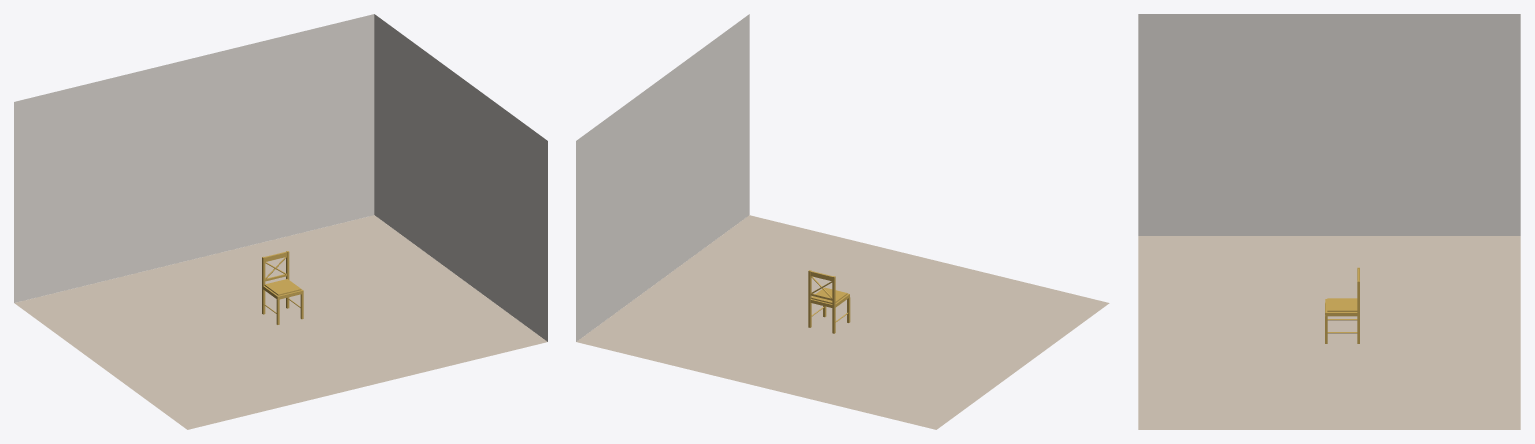
The model's file is silla-crossback.glb.
The picture shows the model from 3 angles, left to right: view 1: azimuth 30°, elevation 25°; view 2: azimuth 150°, elevation 25°; view 3: azimuth 270°, elevation 25°; orthographic projection. The views are drawn at different scales.
Visible parts, largest first — view 1: sala, decoracion; view 2: sala, decoracion; view 3: sala, decoracion.
Boxes of the visible parts, <box> form: sala: <box>14,14,547,429</box>; decoracion: <box>262,251,303,324</box>; sala: <box>576,14,1109,429</box>; decoracion: <box>808,270,850,333</box>; sala: <box>1138,14,1520,429</box>; decoracion: <box>1325,267,1359,343</box>.
Size of the model in its own units: 6 by 3.2 by 5.
